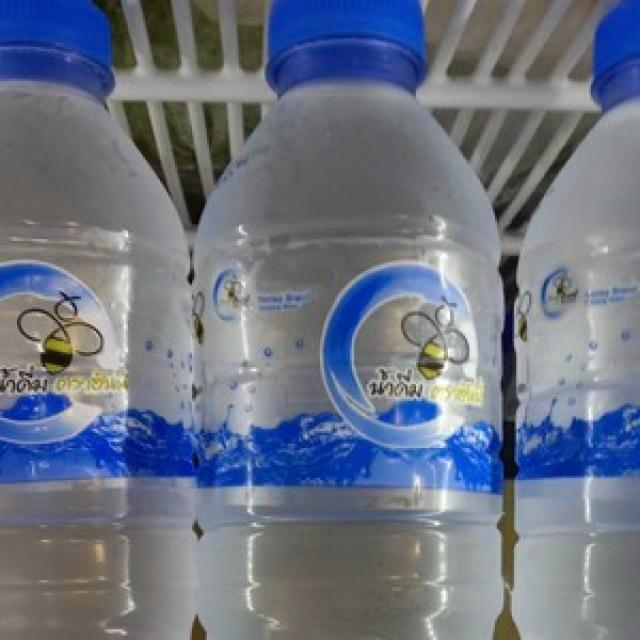bottle: (196, 0, 505, 640), (0, 0, 197, 640), (515, 0, 640, 640)
